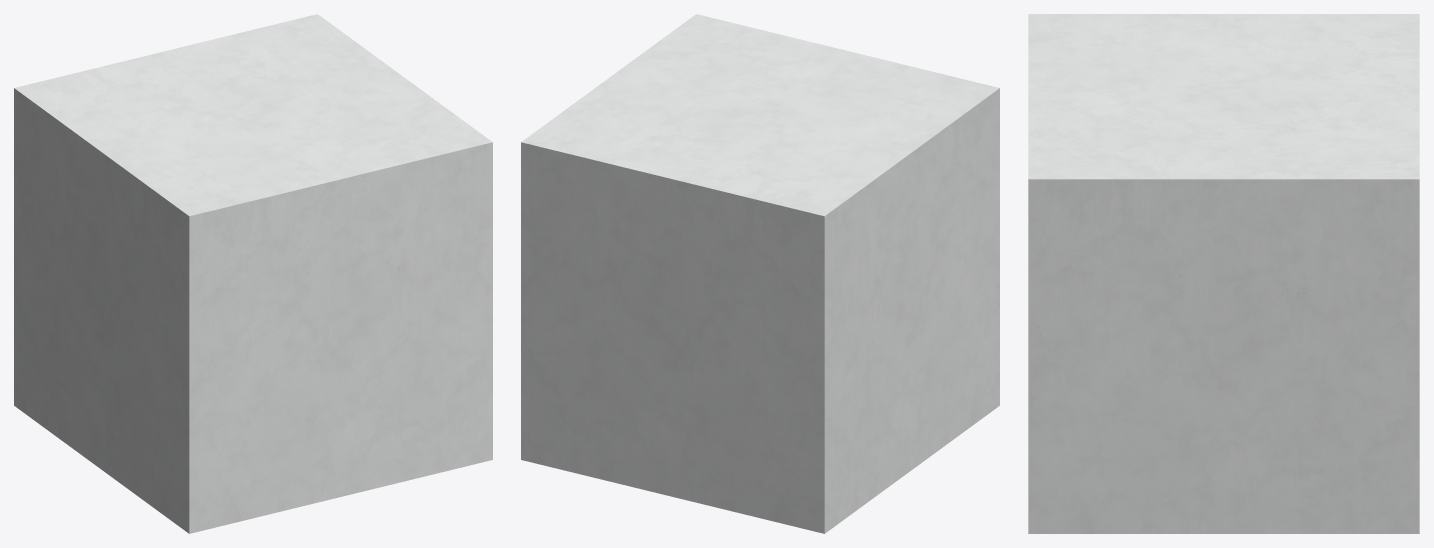
The picture shows the model from 3 angles, left to right: view 1: azimuth 30°, elevation 25°; view 2: azimuth 150°, elevation 25°; view 3: azimuth 270°, elevation 25°; orthographic projection. The views are drawn at different scales.
Visible parts, largest first — view 1: Cube; view 2: Cube; view 3: Cube.
Part boxes in pixels (x1=…): Cube: x1=14, y1=14, x2=492, y2=533; Cube: x1=521, y1=14, x2=999, y2=533; Cube: x1=1028, y1=14, x2=1419, y2=533.
Size of the model in its own units: 32.66 by 32.66 by 32.66.
6 materials, 2 textured.
